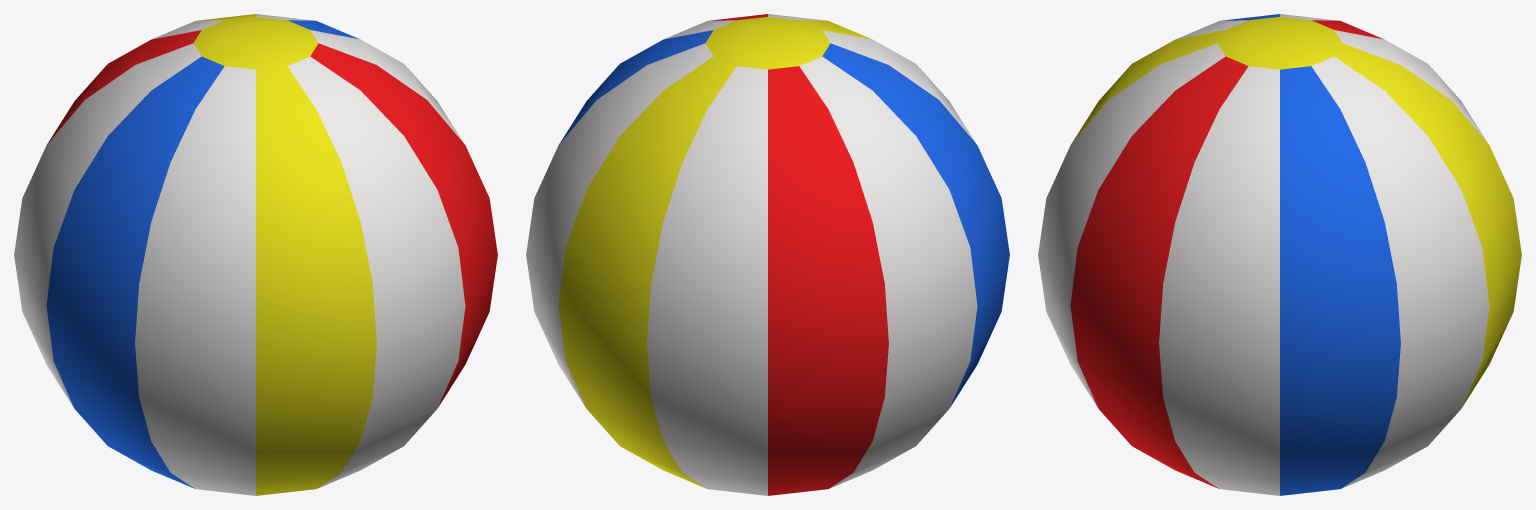
The model's file is beach ball.fbx.
The picture shows the model from 3 angles, left to right: view 1: azimuth 30°, elevation 25°; view 2: azimuth 150°, elevation 25°; view 3: azimuth 270°, elevation 25°; orthographic projection.
Parts seen in each view (by area): view 1: BeachBall; view 2: BeachBall; view 3: BeachBall.
Boxes of the visible parts, bbox=[...] form: BeachBall: bbox=[14, 14, 497, 495]; BeachBall: bbox=[526, 14, 1009, 495]; BeachBall: bbox=[1038, 14, 1521, 495].
Size of the model in its own units: 68.28 by 67.89 by 68.28.
